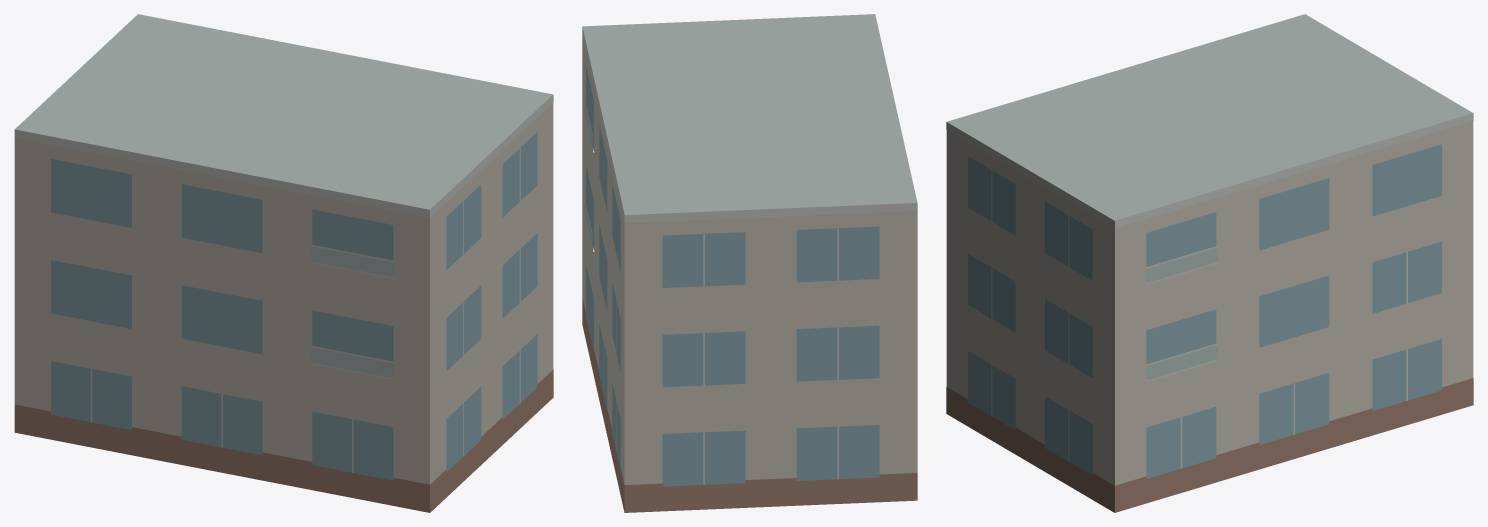
Rendered from survey-upis-32800992.glb.
3 views of the same model, side by side, from view 1: azimuth 30°, elevation 25°; view 2: azimuth 150°, elevation 25°; view 3: azimuth 270°, elevation 25° (orthographic). The views are drawn at different scales.
Parts seen in each view (by area): view 1: survey-upis-32800992.tmp; view 2: survey-upis-32800992.tmp; view 3: survey-upis-32800992.tmp.
Part boxes in pixels (<box>): survey-upis-32800992.tmp: <box>14,14,553,512</box>; survey-upis-32800992.tmp: <box>582,14,917,512</box>; survey-upis-32800992.tmp: <box>946,14,1473,512</box>.
Size of the model in its own units: 13.91 by 9.15 by 14.97.
